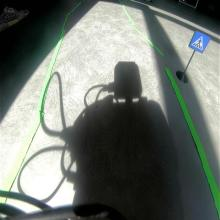crosswalk: (187, 29, 211, 54)
